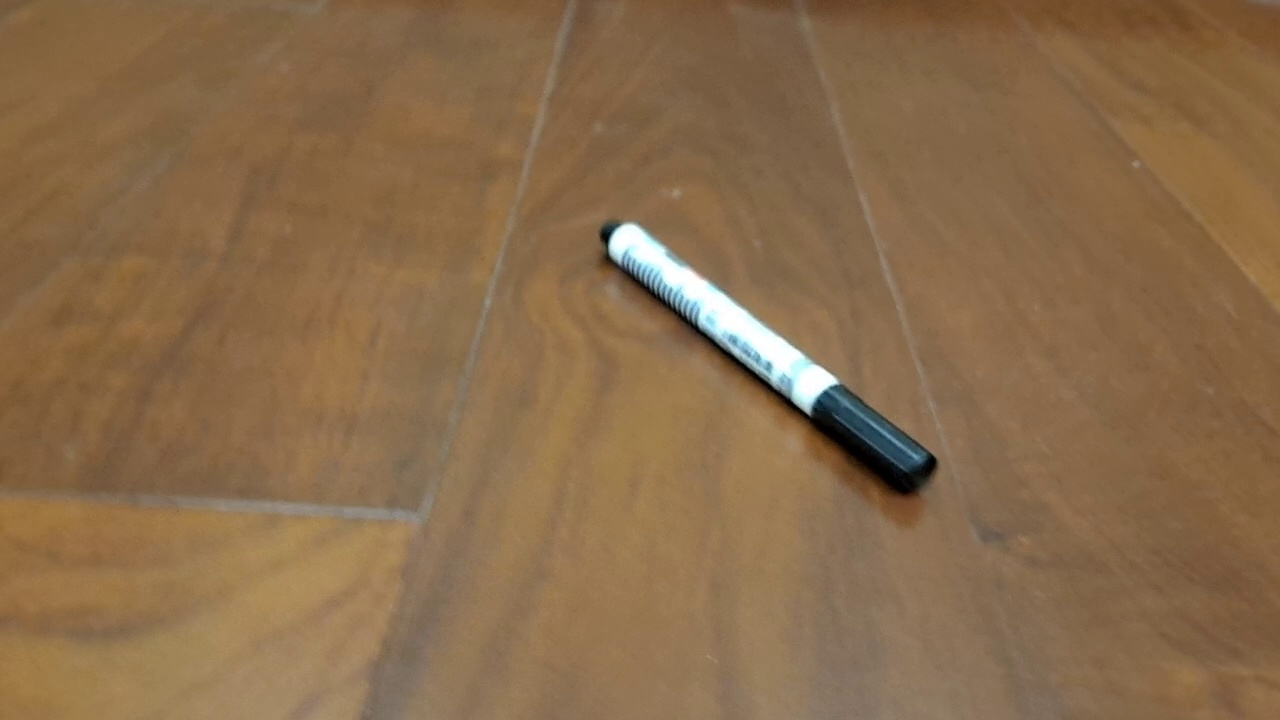pen: (599, 219, 938, 496)
